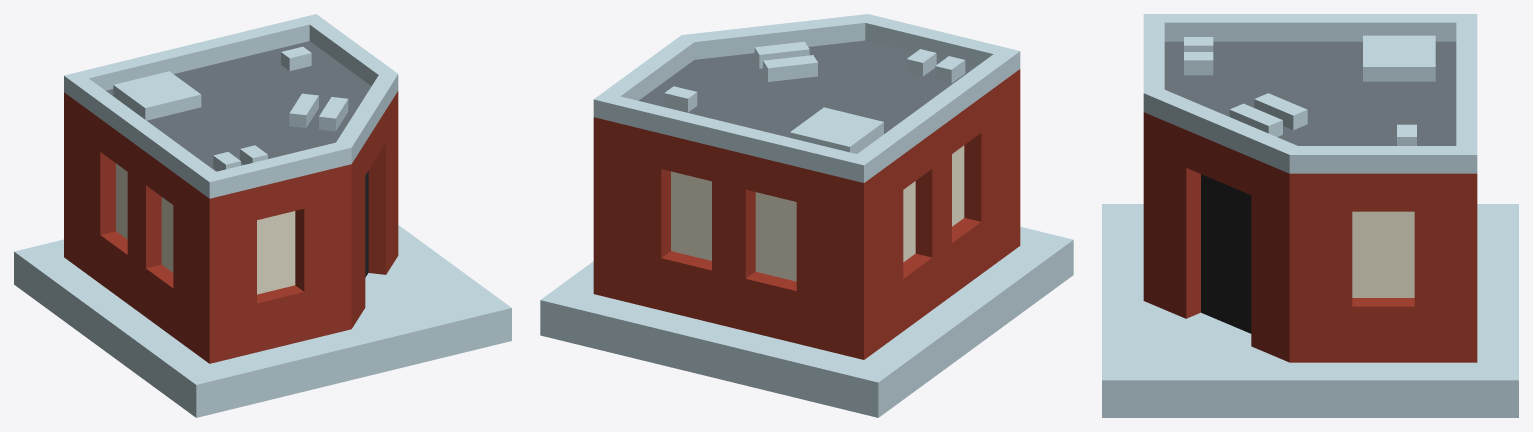
File: Building_10_Base_Extra (Red).obj
3 renders of one model, left to right at view 1: azimuth 30°, elevation 25°; view 2: azimuth 150°, elevation 25°; view 3: azimuth 270°, elevation 25°, orthographic. The views are drawn at different scales.
Visible parts, largest first — view 1: Building_10_Base_Extra_(Red); view 2: Building_10_Base_Extra_(Red); view 3: Building_10_Base_Extra_(Red).
Boxes of the visible parts, left/top/right/bottom form: Building_10_Base_Extra_(Red): left=14, top=14, right=511, bottom=417; Building_10_Base_Extra_(Red): left=540, top=14, right=1073, bottom=417; Building_10_Base_Extra_(Red): left=1102, top=14, right=1518, bottom=417.
Size of the model in its own units: 2 by 1.3 by 2.
